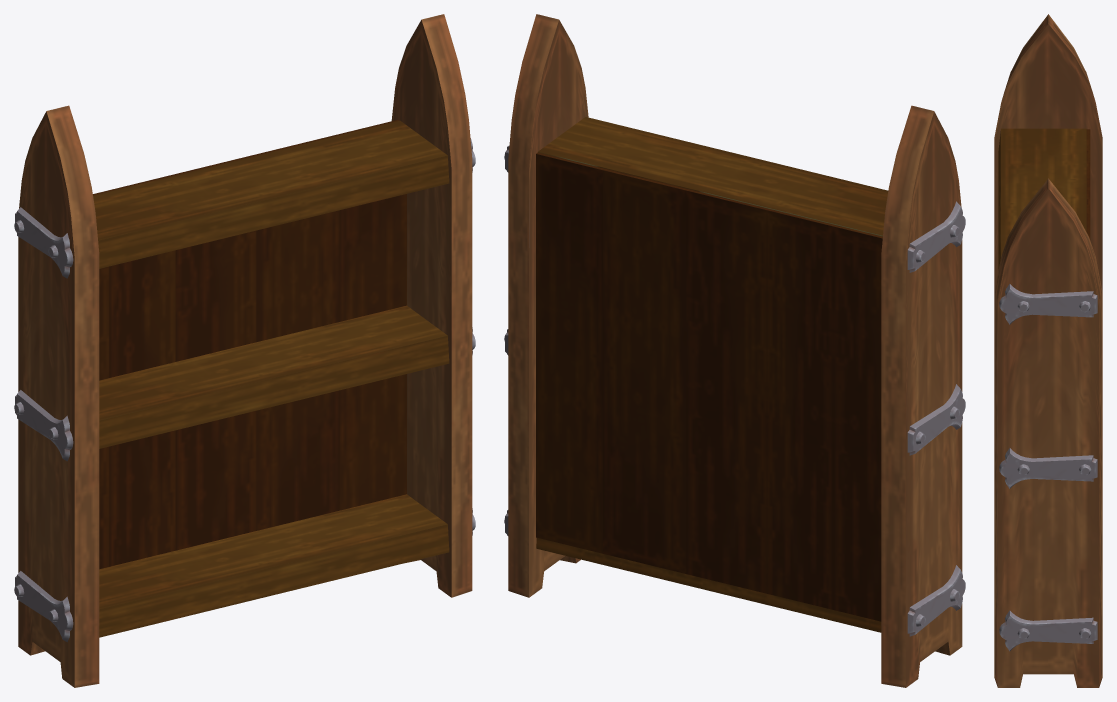
Rendered from shelf_arch.glb.
3 views of the same model, side by side, from view 1: azimuth 30°, elevation 25°; view 2: azimuth 150°, elevation 25°; view 3: azimuth 270°, elevation 25° (orthographic). The views are drawn at different scales.
Visible parts, largest first — view 1: Shelf_Arch; view 2: Shelf_Arch; view 3: Shelf_Arch.
Boxes of the visible parts, x1=… form: Shelf_Arch: x1=14, y1=14, x2=475, y2=687; Shelf_Arch: x1=504, y1=14, x2=965, y2=687; Shelf_Arch: x1=994, y1=14, x2=1102, y2=687.
Bounding box in the file's own units: 1.25 × 1.59 × 0.3116.
Materials: 2 (2 with a texture image).
